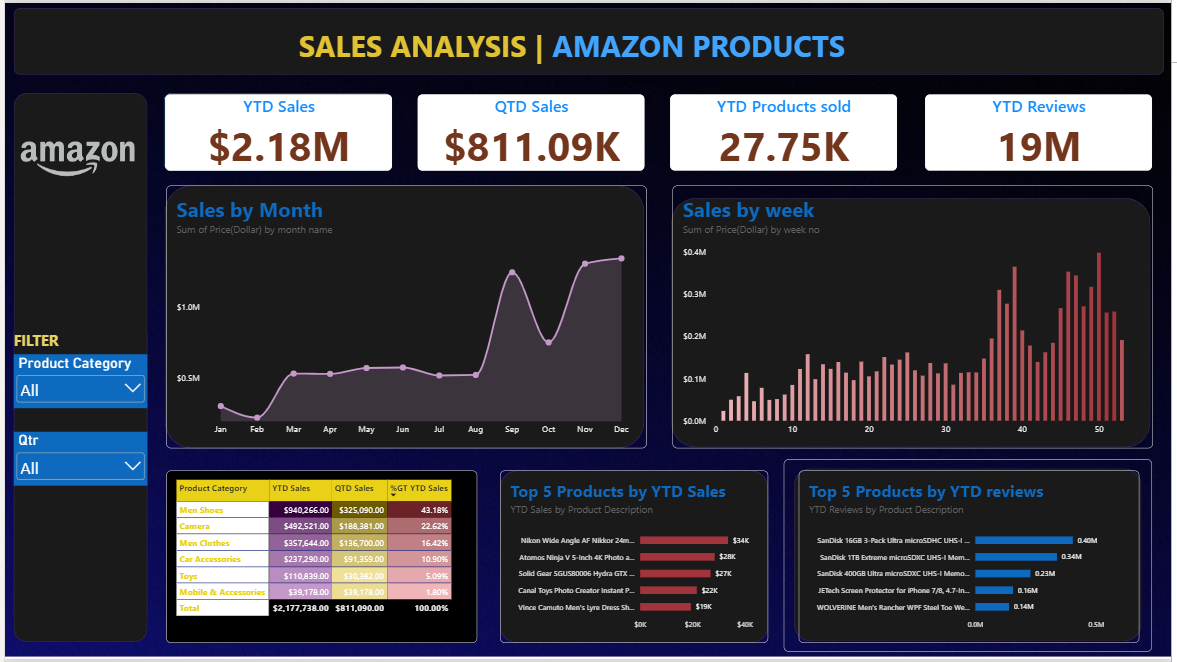

The page's visual inventory and layout, read from the dashboard file:
{"tool":"powerbi","page":{"name":"Page 1","canvas":[1920,1080],"ordinal":0},"visuals":[{"type":"shape","box":[14,8,1894,110],"z":0},{"type":"textbox","box":[484,38,1030,80],"z":1000},{"type":"shape","box":[14,148,220,904],"z":2000},{"type":"shape","box":[262,148,374,128],"z":3000},{"type":"cardVisual","fields":{"Data":["Amazon_Data.YTD Sales"]},"box":[264,150,374,126],"z":4000},{"type":"cardVisual","fields":{"Data":["Amazon_Data.QTD Sales"]},"box":[680,150,374,126],"z":5000},{"type":"cardVisual","fields":{"Data":["Amazon_Data.YTD Reviews"]},"box":[1514,150,374,126],"z":6000},{"type":"cardVisual","fields":{"Data":["Amazon_Data.YTD Products sold"]},"box":[1096,150,374,126],"z":7000},{"type":"shape","box":[264.2,300.4,789,432.5],"z":8000},{"type":"areaChart","title":"Sales by Month","fields":{"Category":["date Table.month name"],"Y":["Sum(Amazon_Data.Price(Dollar))"]},"box":[266,300.4,790.8,432.5],"z":9000},{"type":"shape","box":[1096.7,322.1,789,410.8],"z":10000},{"type":"columnChart","title":"Sales by week","fields":{"Category":["date Table.week no"],"Y":["Sum(Amazon_Data.Price(Dollar))"]},"box":[1098.5,300.4,790.8,432.5],"z":11000},{"type":"shape","box":[266,787.2,512.1,266],"z":12000},{"type":"pivotTable","fields":{"Rows":["Amazon_Data.Product Category"],"Values":["Amazon_Data.YTD Sales1","Amazon_Data.QTD Sales","Amazon_Data.YTD Sales"]},"box":[266,769.1,512.1,284.1],"z":13000},{"type":"shape","box":[814.3,769.1,441.6,284.1],"z":14000},{"type":"shape","box":[1283,751,606.2,316.7],"z":15000},{"type":"clusteredBarChart","title":"Top 5 Products by YTD Sales","fields":{"Category":["Amazon_Data.Product Description"],"Y":["Amazon_Data.YTD Sales"]},"box":[814.3,769.1,441.6,284.1],"z":16000},{"type":"clusteredBarChart","title":"Top 5 Products by YTD reviews","fields":{"Category":["Amazon_Data.Product Description"],"Y":["Amazon_Data.YTD Reviews"]},"box":[1306.6,769.1,561,284.1],"z":17000},{"type":"slicer","fields":{"Values":["Amazon_Data.Product Category"]},"box":[14.4,578.4,220.2,88.5],"z":18000},{"type":"slicer","fields":{"Values":["date Table.Qtr"]},"box":[14.4,706,220.2,88.5],"z":19000},{"type":"image","box":[14.4,148.2,216.1,226.4],"z":20000},{"type":"textbox","box":[14.4,539.3,216.1,39.1],"z":21000}]}

Visuals, with their boxes in screenshot pixels (x1, y1, x2, y2), scaled from the page's 1920x1080 canvas onto the 1177x662 screenshot:
shape: BBox(9, 5, 1170, 72)
textbox: BBox(297, 23, 928, 72)
shape: BBox(9, 91, 143, 645)
shape: BBox(161, 91, 390, 169)
cardVisual - Amazon_Data.YTD Sales: BBox(162, 92, 391, 169)
cardVisual - Amazon_Data.QTD Sales: BBox(417, 92, 646, 169)
cardVisual - Amazon_Data.YTD Reviews: BBox(928, 92, 1157, 169)
cardVisual - Amazon_Data.YTD Products sold: BBox(672, 92, 901, 169)
shape: BBox(162, 184, 646, 449)
"Sales by Month" areaChart: BBox(163, 184, 648, 449)
shape: BBox(672, 197, 1156, 449)
"Sales by week" columnChart: BBox(673, 184, 1158, 449)
shape: BBox(163, 483, 477, 646)
pivotTable - Amazon_Data.Product Category x Amazon_Data.YTD Sales1: BBox(163, 471, 477, 646)
shape: BBox(499, 471, 770, 646)
shape: BBox(787, 460, 1158, 654)
"Top 5 Products by YTD Sales" clusteredBarChart: BBox(499, 471, 770, 646)
"Top 5 Products by YTD reviews" clusteredBarChart: BBox(801, 471, 1145, 646)
slicer - Amazon_Data.Product Category: BBox(9, 355, 144, 409)
slicer - date Table.Qtr: BBox(9, 433, 144, 487)
image: BBox(9, 91, 141, 230)
textbox: BBox(9, 331, 141, 355)
